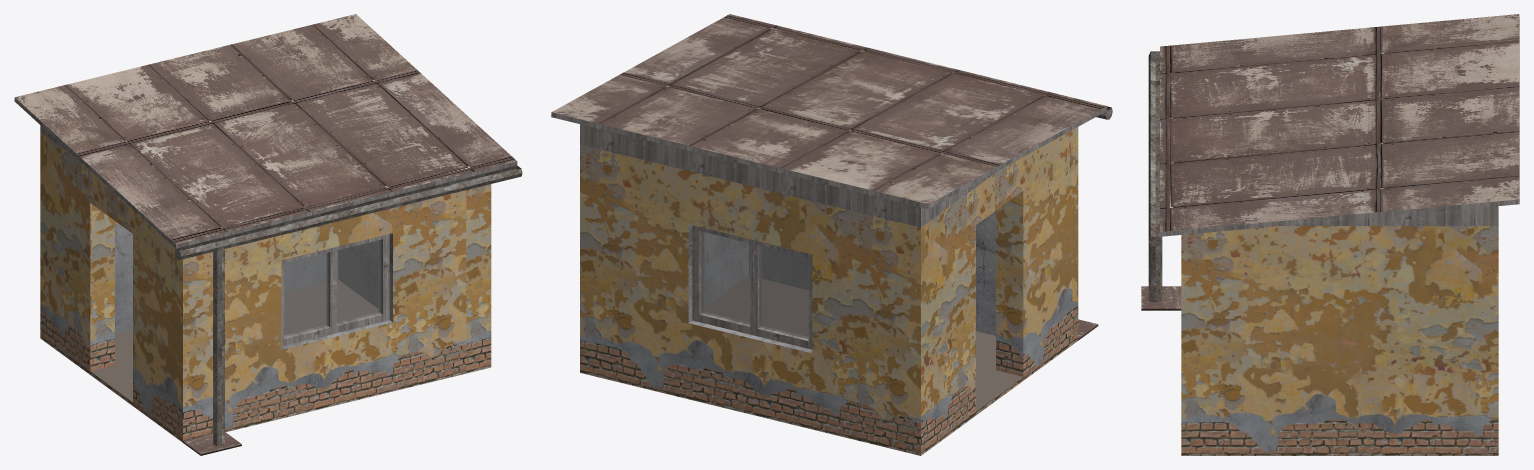
3 views of the same model, side by side, from view 1: azimuth 30°, elevation 25°; view 2: azimuth 150°, elevation 25°; view 3: azimuth 270°, elevation 25° (orthographic). The views are drawn at different scales.
Parts seen in each view (by area): view 1: Model; view 2: Model; view 3: Model.
Part boxes in pixels (x1,y1,x2,y2): Model: [14, 14, 522, 455]; Model: [551, 14, 1112, 455]; Model: [1141, 14, 1519, 455].
Size of the model in its own units: 4150 by 2770 by 3579.
